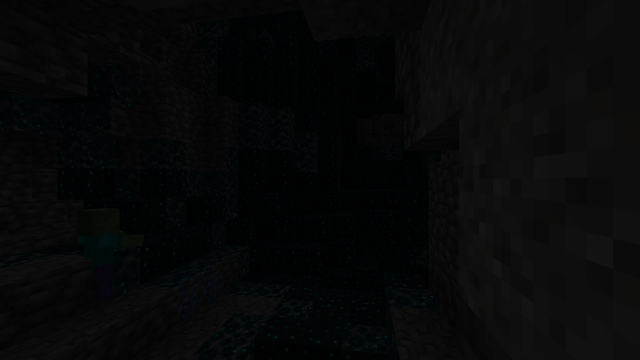zombies: (70, 210, 123, 313)
